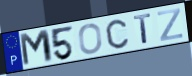5: (49, 25, 75, 61)
C: (104, 18, 130, 50)
M: (18, 28, 55, 68)
O: (78, 22, 104, 55)
T: (132, 12, 153, 46)
Z: (157, 7, 185, 43)
